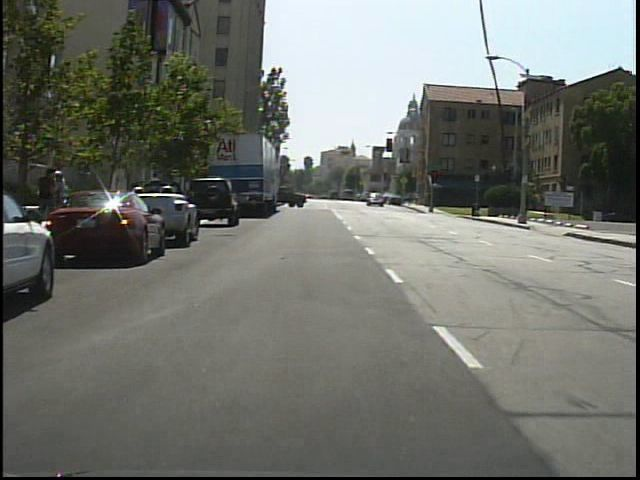person: (35, 163, 65, 238), (50, 169, 77, 224)
